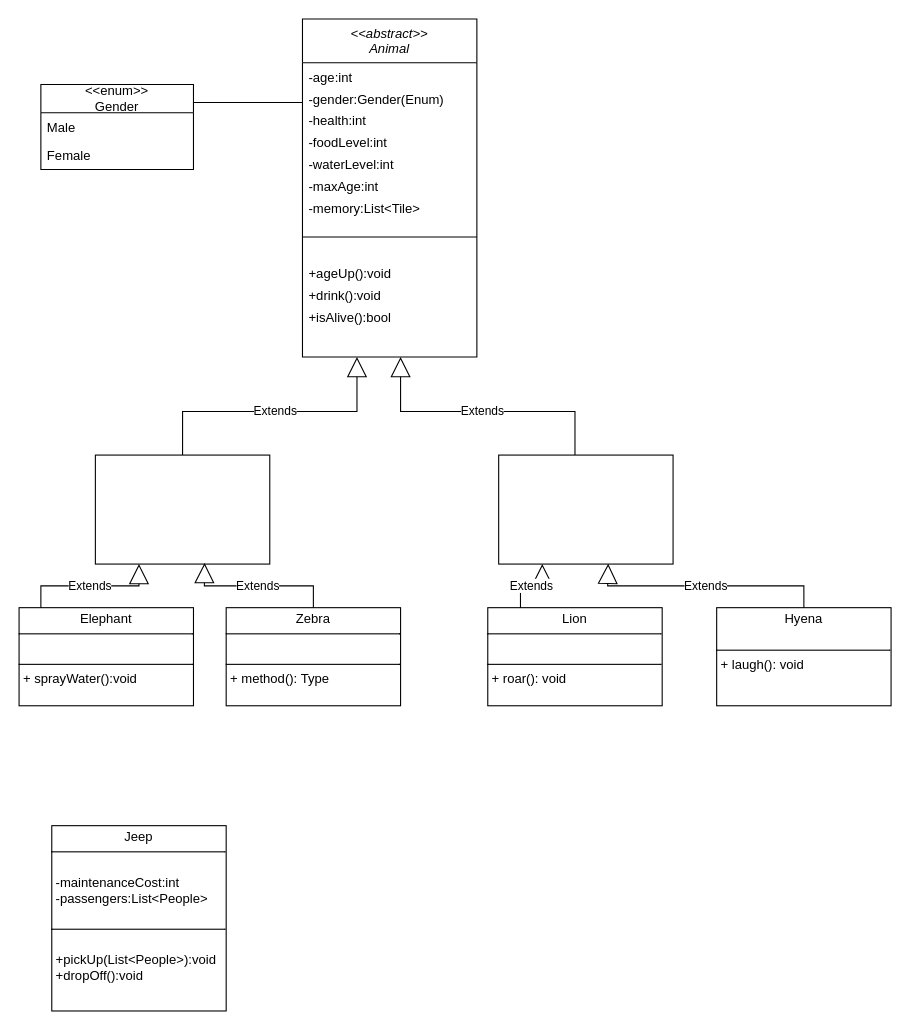
Image size: 910x1030. Some labels were removed from this diagram. Here are the shapes that lost their labels. From the top down, the centre of each, then its label:
point (182, 509): <<abstract>> Herbivore + graze():void
point (585, 509): <<abstract>> Carnivore + hunt():void
